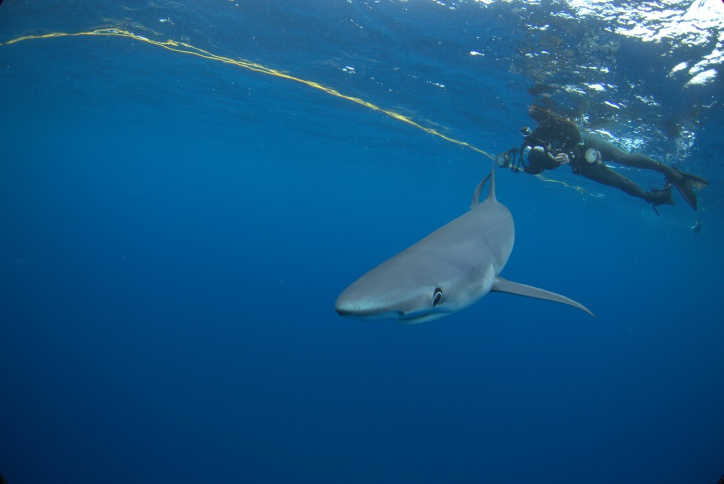Azul: (308, 169, 609, 336)
